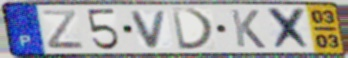5: (84, 8, 121, 52)
D: (169, 7, 218, 52)
K: (228, 8, 268, 50)
V: (128, 9, 170, 50)
X: (266, 6, 315, 52)
Z: (39, 9, 87, 51)
